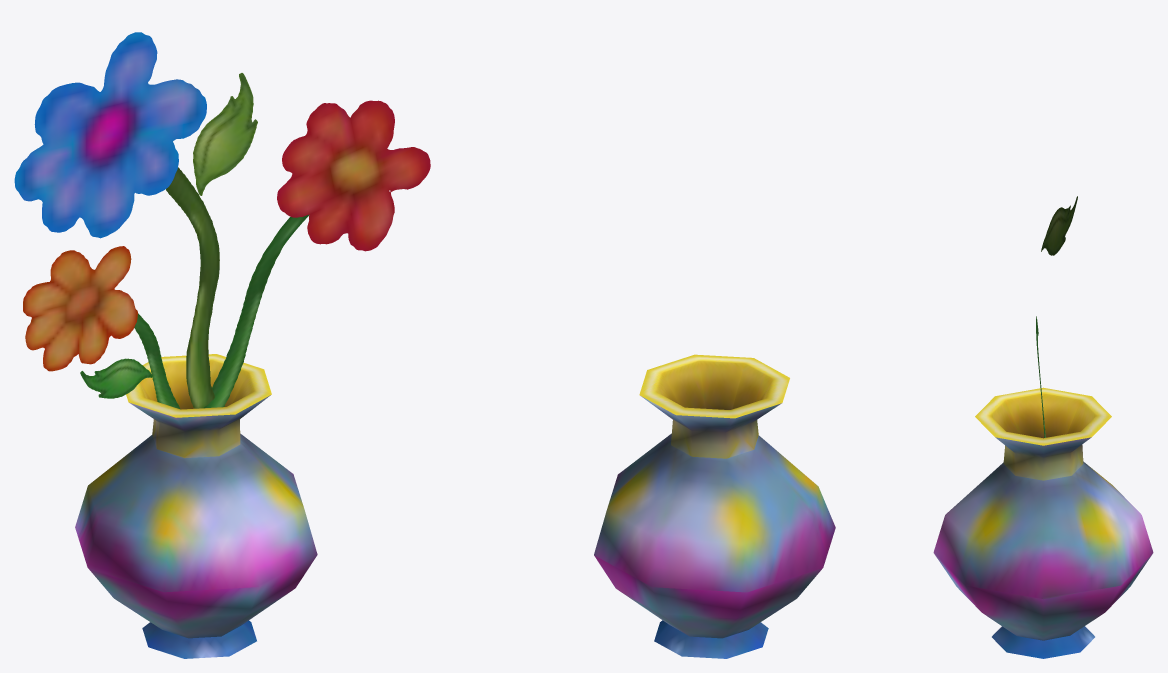
File: vaseB_short.glb
3 renders of one model, left to right at view 1: azimuth 30°, elevation 25°; view 2: azimuth 150°, elevation 25°; view 3: azimuth 270°, elevation 25°, orthographic. The views are drawn at different scales.
Visible parts, largest first — view 1: vaseA_v7s1_pSphere2, pPlane7, pPlane17, pPlane6, pPlane9, pPlane11, pPlane16, pPlane18, pPlane13; view 2: vaseA_v7s1_pSphere2; view 3: vaseA_v7s1_pSphere2, pPlane11.
Part boxes in pixels (x1=…): vaseA_v7s1_pSphere2: x1=75, y1=354, x2=317, y2=658; pPlane7: x1=14, y1=32, x2=206, y2=238; pPlane17: x1=277, y1=100, x2=430, y2=251; pPlane6: x1=23, y1=246, x2=137, y2=371; pPlane9: x1=166, y1=167, x2=219, y2=408; pPlane11: x1=193, y1=73, x2=257, y2=195; pPlane16: x1=204, y1=214, x2=309, y2=408; pPlane18: x1=80, y1=358, x2=152, y2=398; pPlane13: x1=134, y1=313, x2=180, y2=409; vaseA_v7s1_pSphere2: x1=594, y1=354, x2=835, y2=658; vaseA_v7s1_pSphere2: x1=933, y1=387, x2=1153, y2=658; pPlane11: x1=1041, y1=196, x2=1077, y2=255.
Size of the model in its own units: 1.2 by 1.65 by 0.6071.
5 materials, 5 textured.
